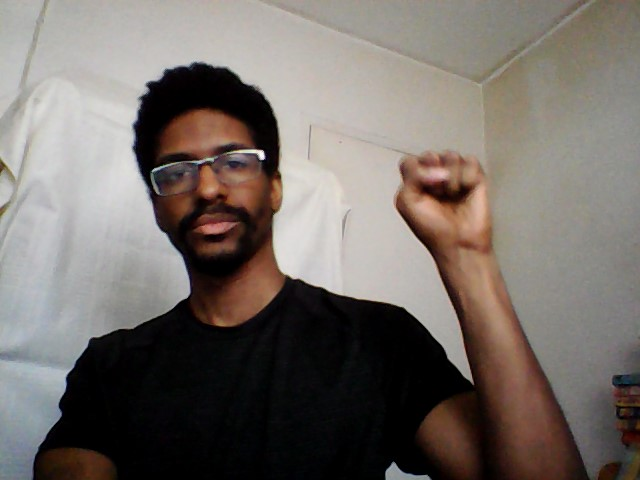s: (388, 148, 499, 257)
